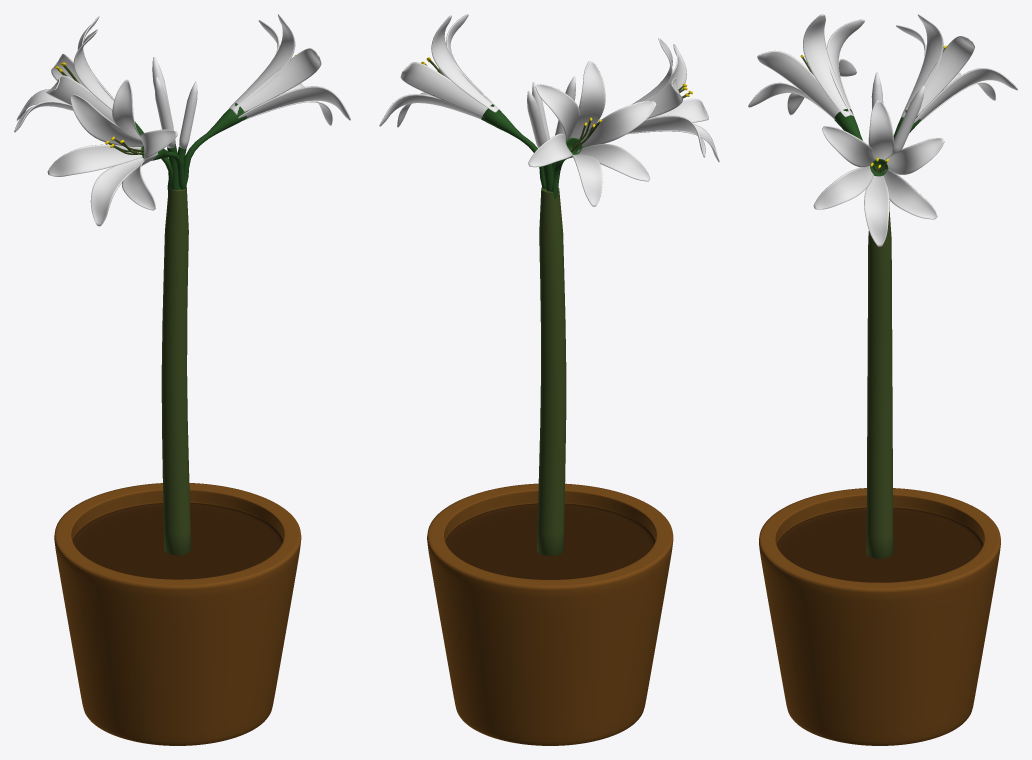
Rendered from Hippeastrum_Argentinum.fbx.
3 renders of one model, left to right at view 1: azimuth 30°, elevation 25°; view 2: azimuth 150°, elevation 25°; view 3: azimuth 270°, elevation 25°, orthographic.
Visible parts, largest first — view 1: Cylinder.006; view 2: Cylinder.006; view 3: Cylinder.006.
Part boxes in pixels (x1=…): Cylinder.006: x1=14, y1=14, x2=350, y2=745; Cylinder.006: x1=379, y1=14, x2=719, y2=745; Cylinder.006: x1=748, y1=14, x2=1017, y2=745.
Bounding box in the file's own units: 147 × 321 × 118.
